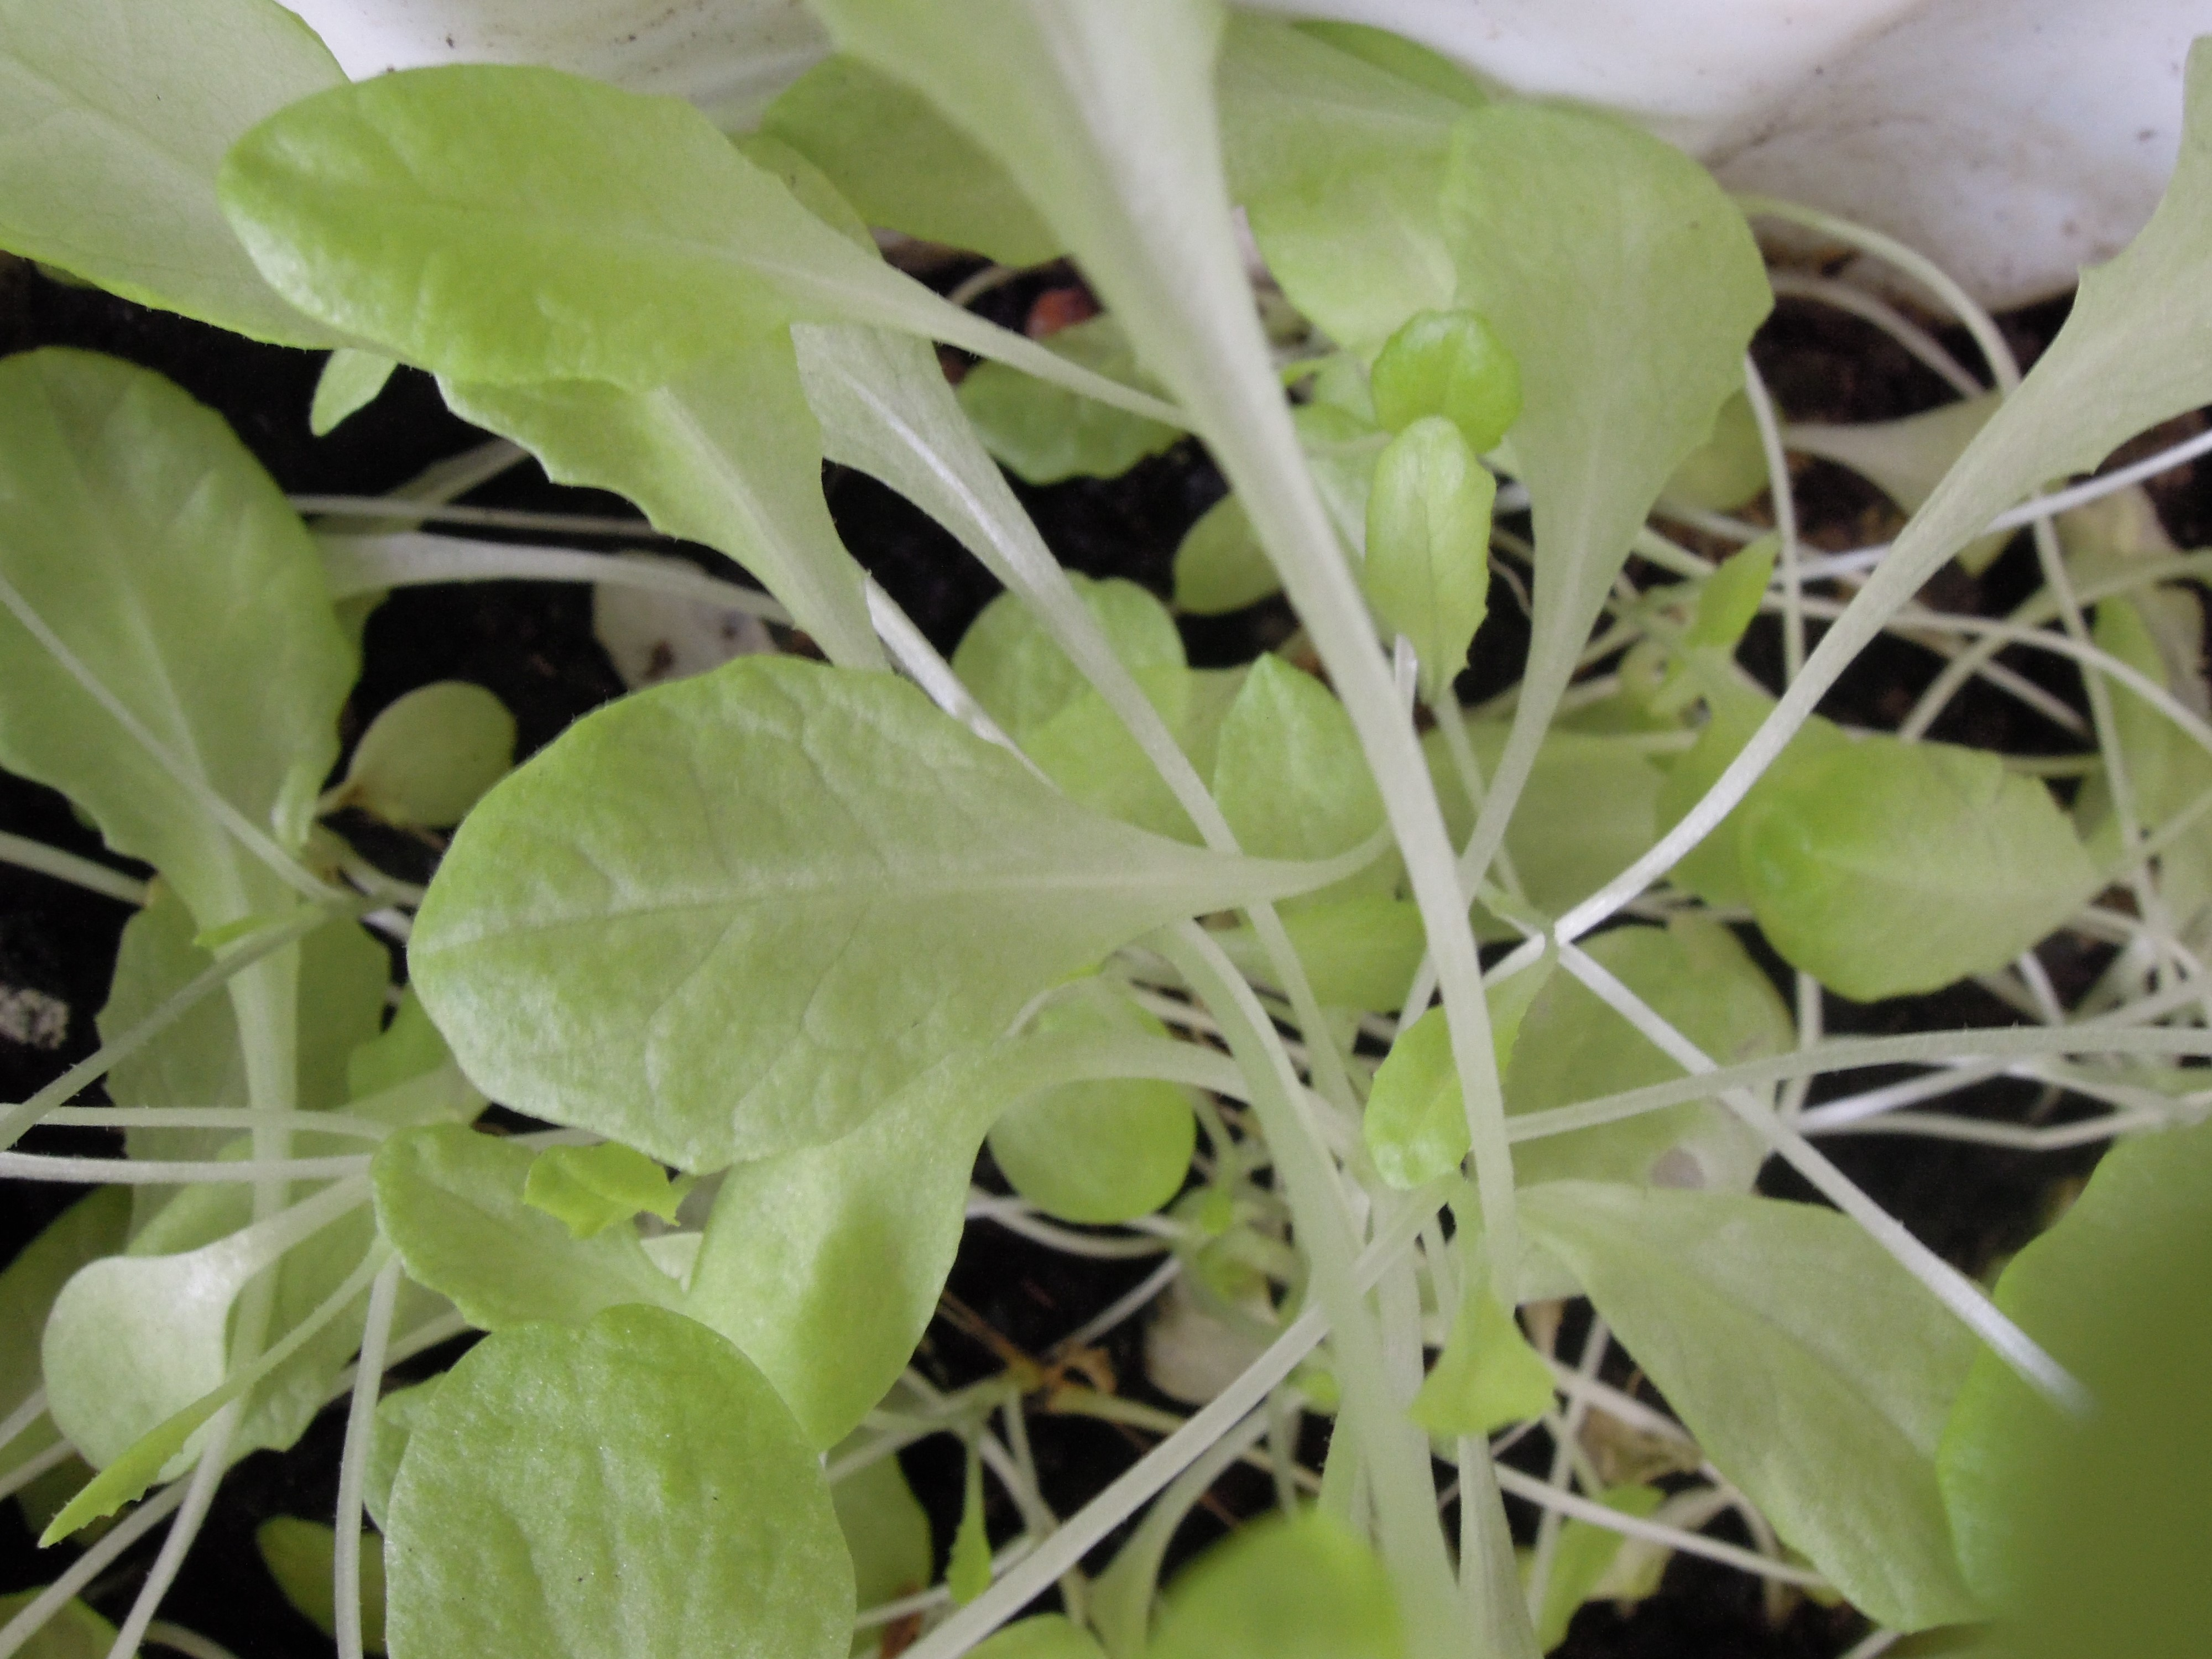weeek6: (214, 19, 2198, 1579)
